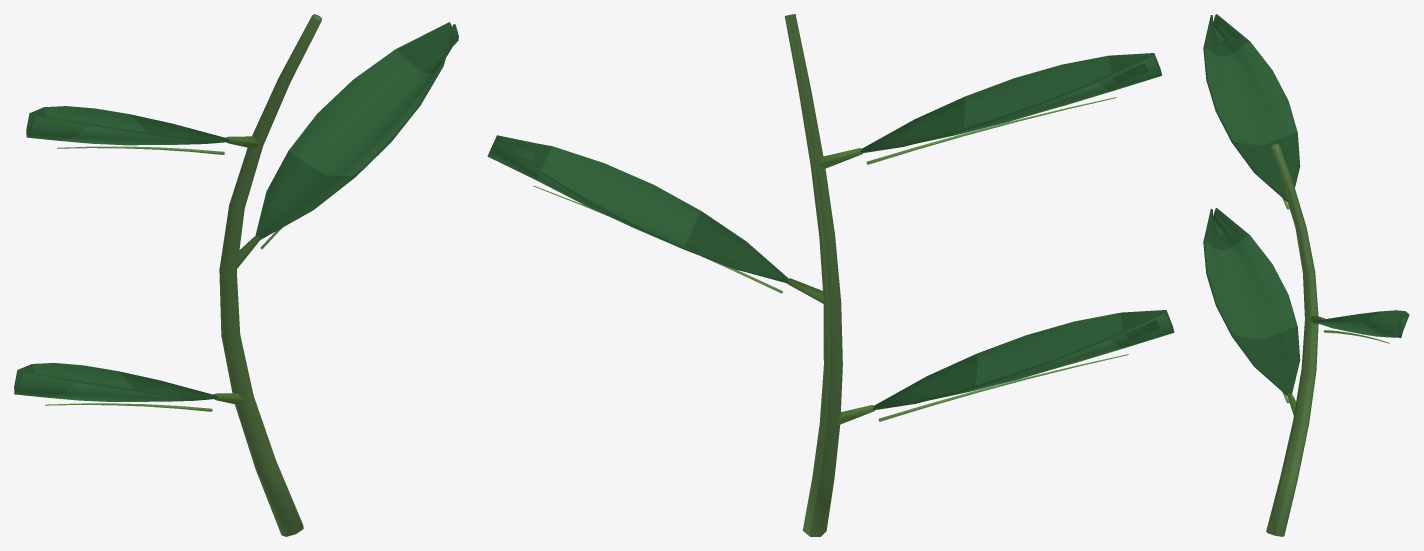
Rendered from garden-tulip-bud-stem-1.glb.
The picture shows the model from 3 angles, left to right: view 1: azimuth 30°, elevation 25°; view 2: azimuth 150°, elevation 25°; view 3: azimuth 270°, elevation 25°; orthographic projection. The views are drawn at different scales.
Parts seen in each view (by area): view 1: tulip-bud-stem-1; view 2: tulip-bud-stem-1; view 3: tulip-bud-stem-1.
Part boxes in pixels (x1,y1,x2,y2): tulip-bud-stem-1: [14, 14, 458, 536]; tulip-bud-stem-1: [487, 14, 1174, 536]; tulip-bud-stem-1: [1203, 14, 1409, 536].
Size of the model in its own units: 0.3681 by 0.325 by 0.1488.
